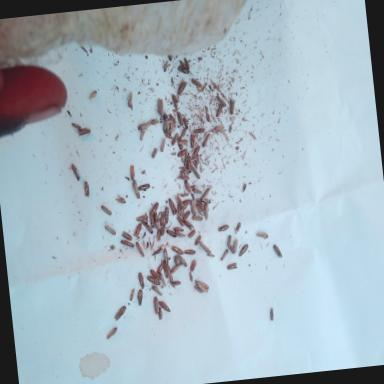pbw: (195, 278, 210, 294), (176, 78, 189, 95), (141, 219, 154, 236), (132, 178, 142, 199), (198, 239, 212, 254), (120, 238, 136, 250), (176, 252, 188, 268), (168, 197, 178, 216), (200, 186, 212, 201), (191, 144, 202, 160), (106, 326, 119, 339), (104, 222, 116, 236), (159, 299, 171, 313), (147, 274, 161, 286), (72, 162, 80, 182), (76, 127, 92, 137), (126, 91, 134, 111), (133, 222, 143, 238), (100, 204, 112, 217), (238, 243, 250, 256), (201, 133, 212, 147), (170, 262, 184, 273), (157, 98, 165, 116), (216, 94, 227, 107), (156, 260, 166, 274), (229, 98, 237, 115), (136, 240, 144, 257), (167, 264, 174, 283), (150, 269, 161, 281), (152, 284, 163, 296), (172, 244, 184, 255), (150, 202, 160, 215), (176, 110, 184, 126), (138, 121, 152, 130), (171, 132, 180, 146), (172, 93, 179, 111), (215, 104, 224, 118), (189, 258, 198, 272), (150, 147, 160, 159), (274, 244, 282, 259), (178, 64, 190, 74), (184, 180, 192, 195), (152, 246, 164, 256), (178, 128, 188, 140), (220, 249, 230, 261), (196, 202, 204, 217), (196, 198, 206, 210), (137, 289, 144, 306), (154, 296, 160, 315), (164, 205, 170, 224), (192, 166, 200, 180), (176, 195, 184, 209), (158, 212, 166, 226), (129, 164, 136, 180), (197, 197, 211, 205), (184, 219, 194, 230), (122, 230, 132, 241), (166, 228, 177, 238), (115, 194, 126, 204), (138, 272, 144, 290), (174, 229, 186, 238), (84, 180, 90, 198), (163, 260, 169, 278), (176, 147, 188, 156), (149, 210, 155, 228), (160, 137, 167, 152), (139, 128, 147, 141), (177, 214, 185, 227), (256, 232, 269, 240), (191, 199, 197, 216), (205, 105, 211, 122), (204, 203, 210, 220), (164, 248, 170, 265), (192, 78, 202, 88), (182, 210, 192, 220), (194, 234, 203, 245), (233, 238, 240, 252), (227, 234, 233, 250), (136, 214, 148, 222), (186, 156, 192, 172), (190, 133, 196, 149), (192, 214, 204, 222), (155, 211, 160, 230), (163, 59, 170, 72), (194, 285, 204, 294), (188, 228, 197, 238), (178, 135, 184, 150), (160, 272, 166, 287), (162, 118, 168, 133), (166, 116, 171, 134), (160, 221, 166, 236), (228, 243, 236, 254), (192, 186, 203, 194), (219, 224, 230, 232), (214, 124, 225, 132), (184, 152, 190, 166), (184, 56, 190, 70), (184, 116, 190, 130), (228, 262, 238, 270), (180, 58, 188, 68), (183, 248, 196, 254), (130, 288, 136, 301), (168, 120, 174, 133), (156, 228, 162, 241), (235, 222, 242, 233), (176, 202, 182, 214), (90, 90, 98, 99), (178, 175, 190, 181), (138, 184, 150, 190), (170, 112, 176, 124), (158, 306, 163, 320), (182, 198, 192, 205), (170, 280, 181, 286), (270, 306, 274, 322), (174, 226, 184, 232), (184, 168, 190, 178), (194, 128, 204, 134), (72, 122, 82, 128), (178, 139, 188, 145), (188, 156, 194, 166), (150, 118, 160, 124), (165, 132, 173, 139), (207, 252, 215, 258), (190, 271, 194, 282), (168, 54, 174, 61), (179, 166, 188, 170), (180, 170, 184, 179), (67, 110, 72, 117)
